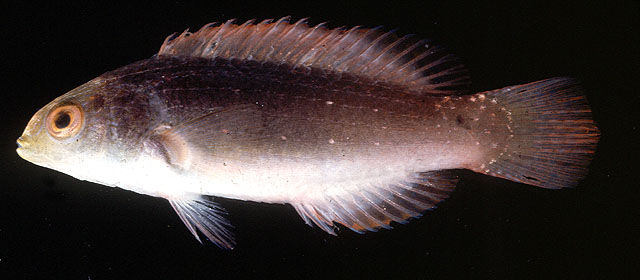fish: (15, 16, 599, 250)
